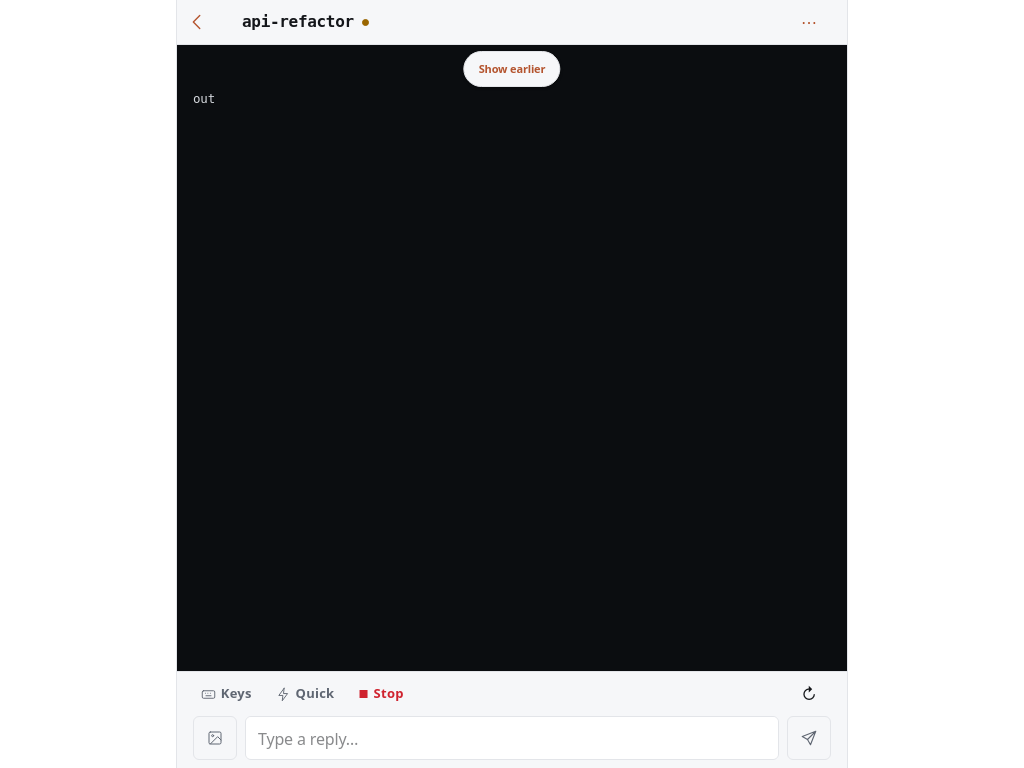
a rejected /history request is surfaced, not swallowed, and the button survives
Click the button with class "term-earlier" at (512, 69), box [463,51,561,87]
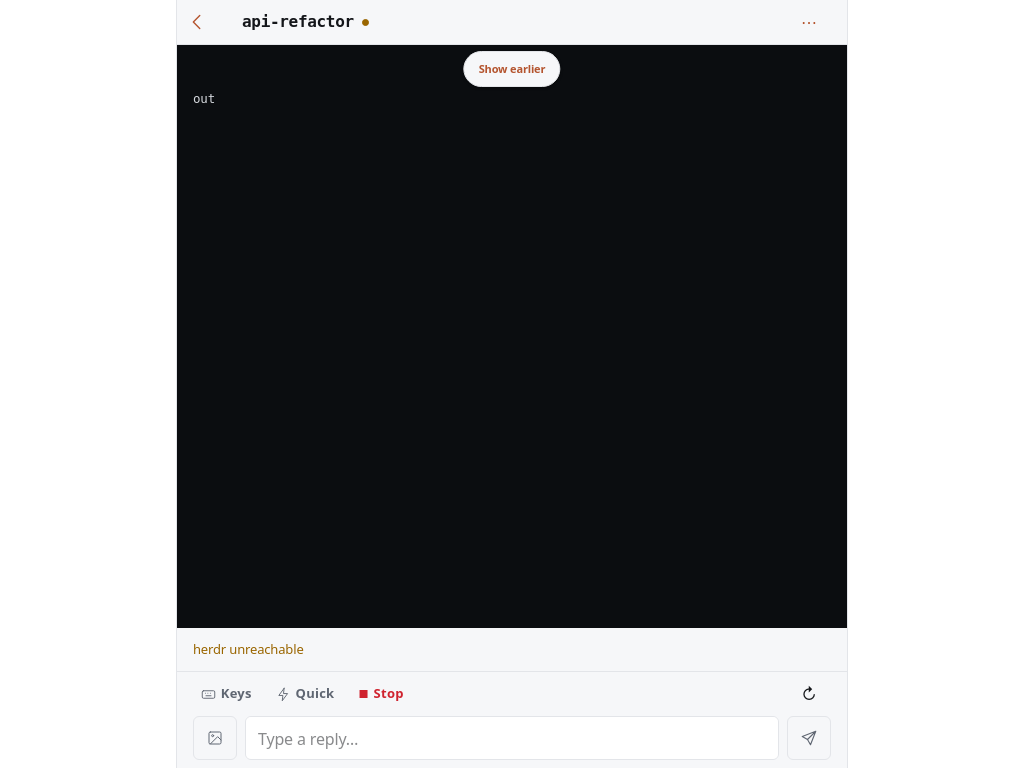
Now the message with class "warn" reads "herdr unreachable", box [193,640,304,658]
